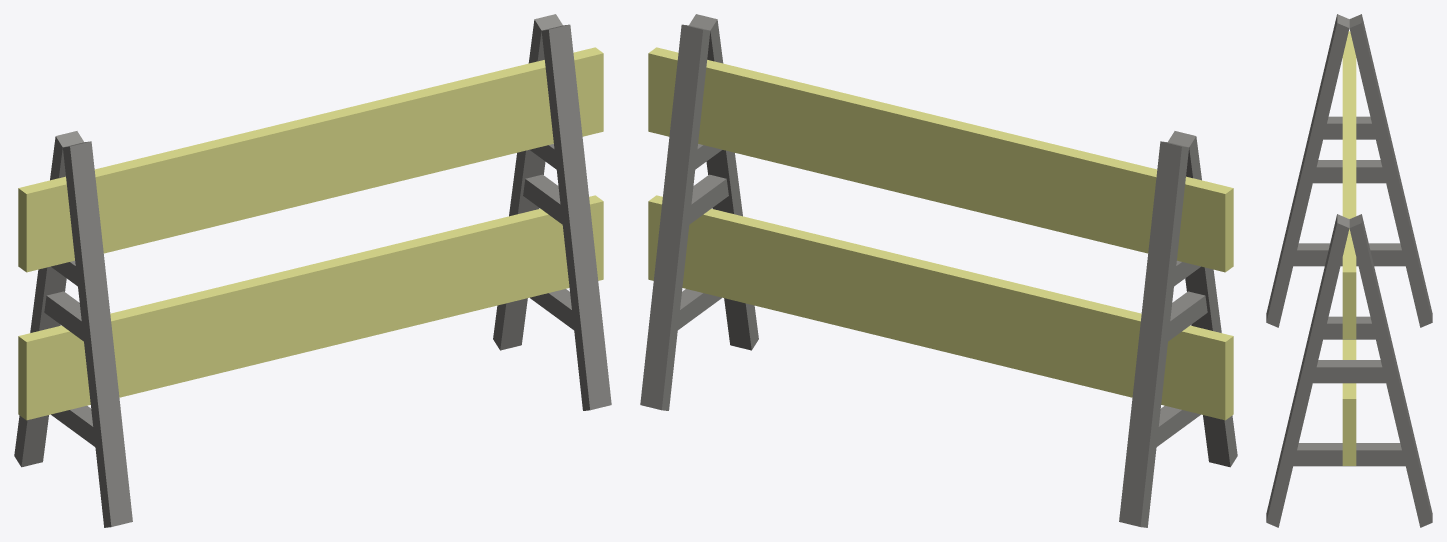
Rendered from Prop_Barricade_Model.fbx.
The picture shows the model from 3 angles, left to right: view 1: azimuth 30°, elevation 25°; view 2: azimuth 150°, elevation 25°; view 3: azimuth 270°, elevation 25°; orthographic projection. The views are drawn at different scales.
Visible parts, largest first — view 1: Prop_Barricade_Model; view 2: Prop_Barricade_Model; view 3: Prop_Barricade_Model.
Part boxes in pixels (x1,y1,x2,y2): Prop_Barricade_Model: (14, 14, 611, 527); Prop_Barricade_Model: (640, 14, 1237, 527); Prop_Barricade_Model: (1266, 14, 1432, 527).
Bounding box in the file's own units: 182 × 107 × 53.09.
